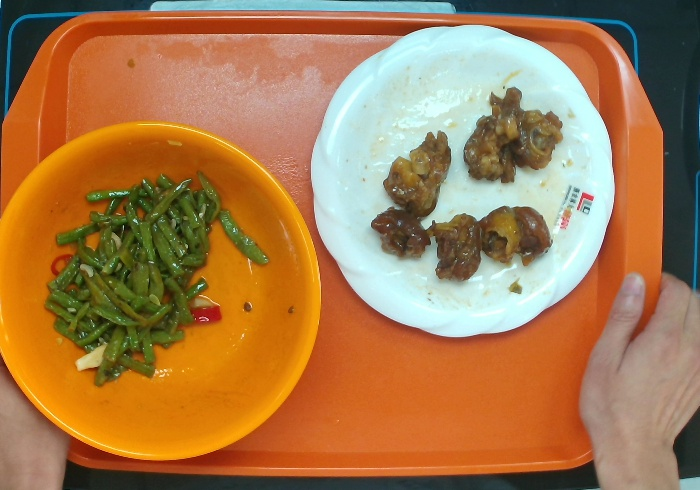ZNLD-Hua_Bian_Wan: (310, 25, 618, 345)
ZNLD-Ju_Se_Tang_Wan: (1, 120, 327, 462)
